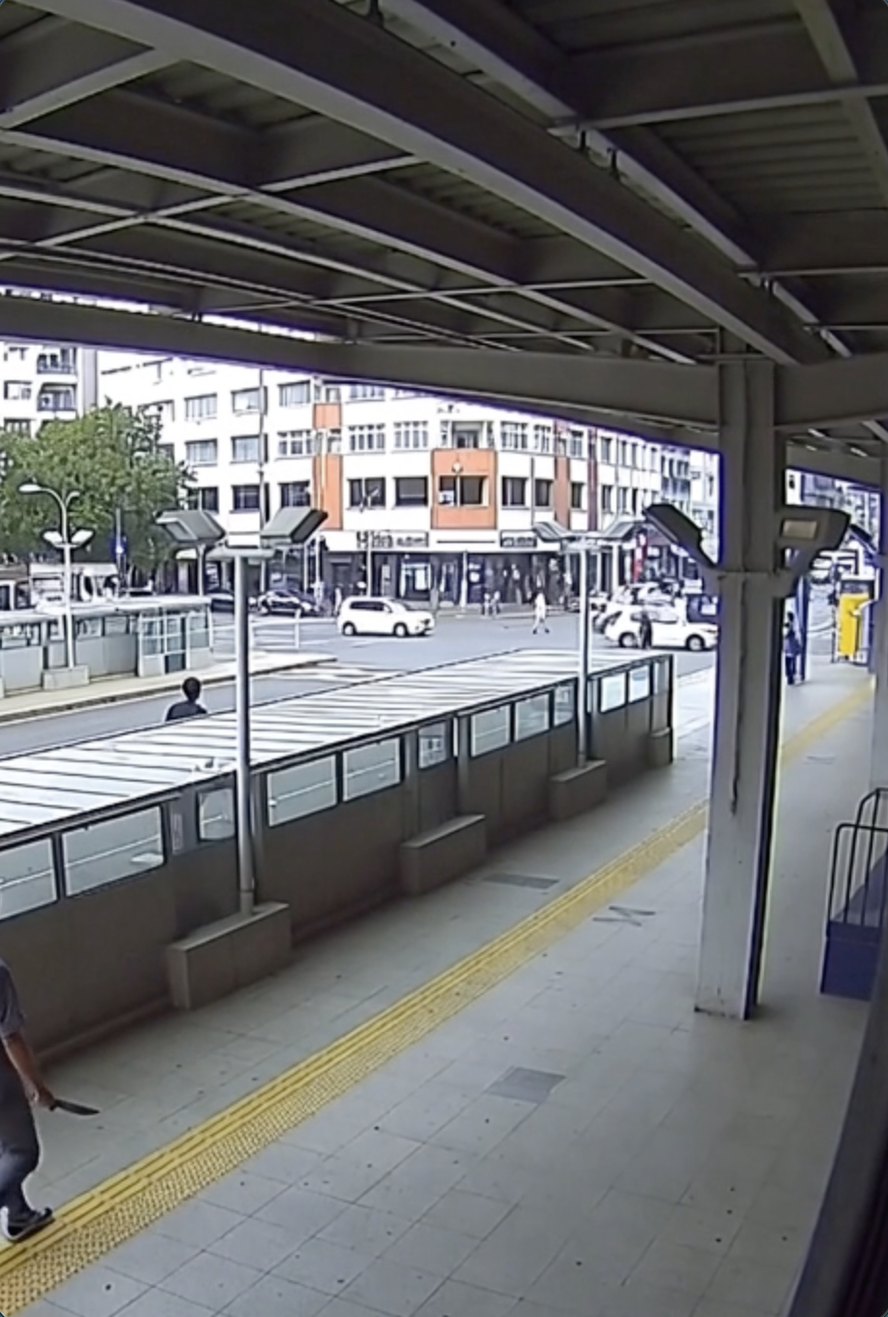Heavy Gun: (1, 952, 63, 1245)
Knife: (29, 1074, 108, 1126)
